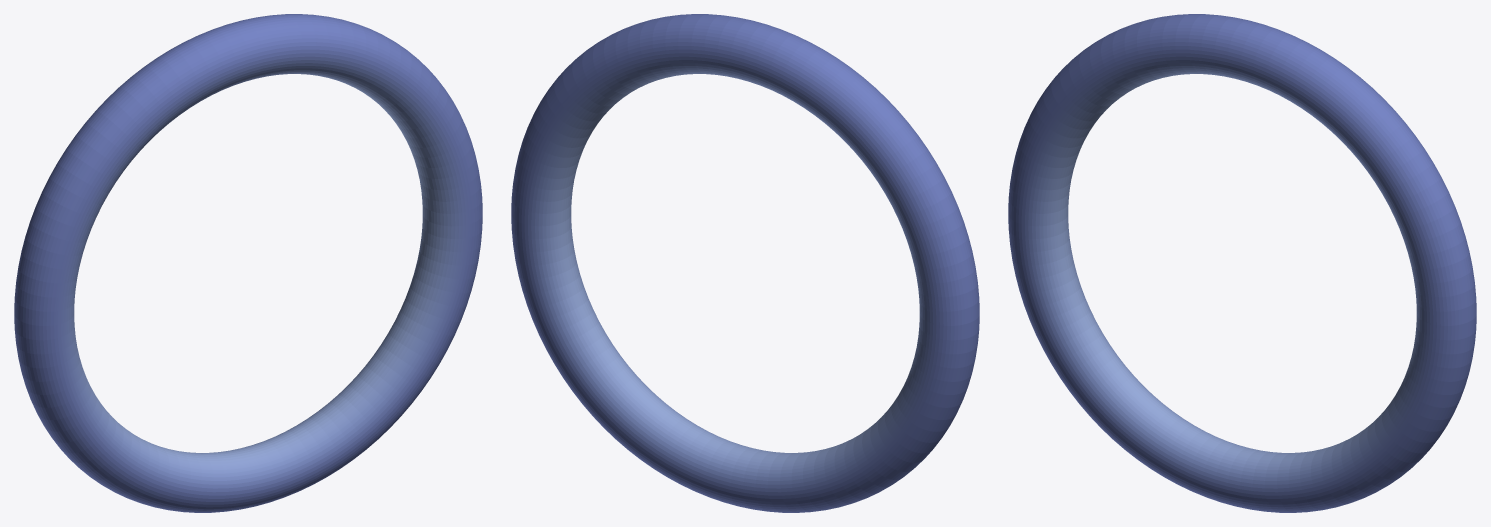
3 renders of one model, left to right at view 1: azimuth 30°, elevation 25°; view 2: azimuth 150°, elevation 25°; view 3: azimuth 330°, elevation 25°, orthographic.
Visible parts, largest first — view 1: world; view 2: world; view 3: world.
Part boxes in pixels (x1,y1,x2,y2): world: (14,14,482,512); world: (511,14,979,512); world: (1008,14,1476,512).
Bounding box in the file's own units: 24.8 × 24.8 × 2.79.
